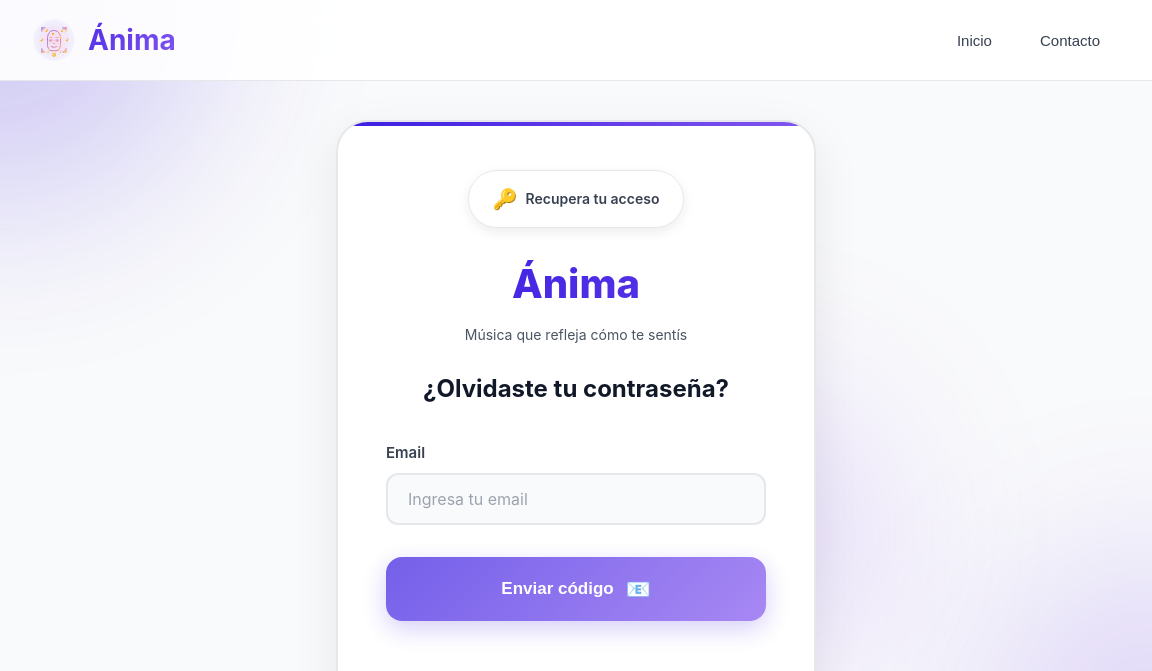
Test: ForgotPassword › shows error when service returns failure
Step 1. Type "a@b.com" into the field with placeholder "Ingresa tu email" → [576, 499], box [386,473,766,525]
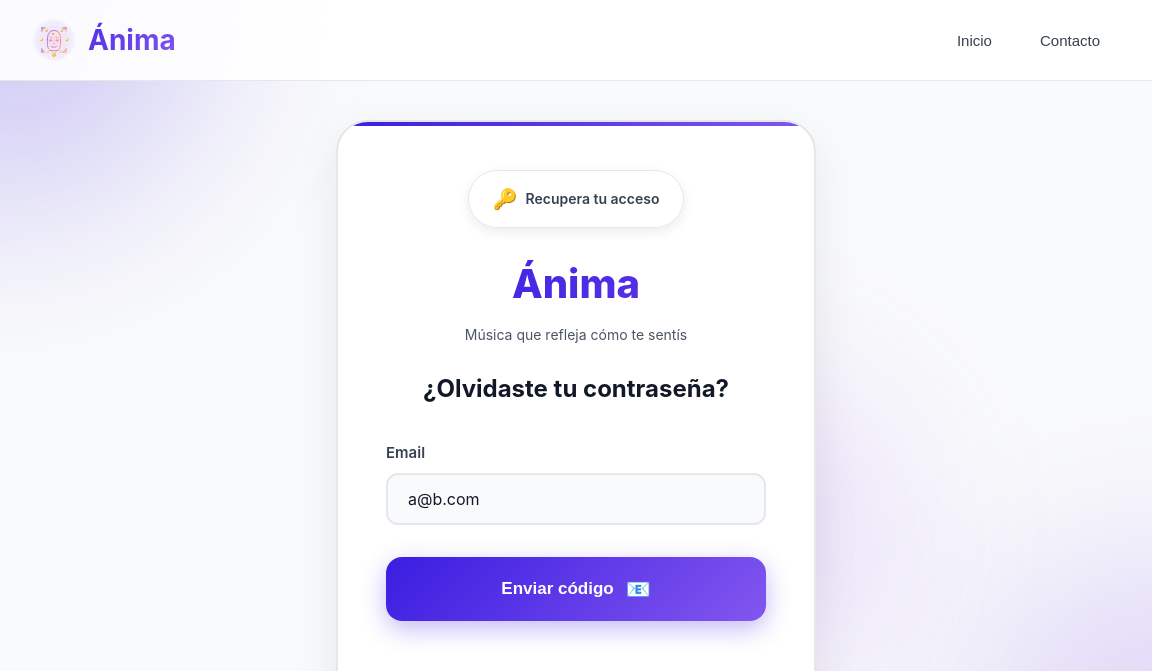
Step 2. Click the button "Enviar código 📧" → [576, 589], box [386,557,766,621]
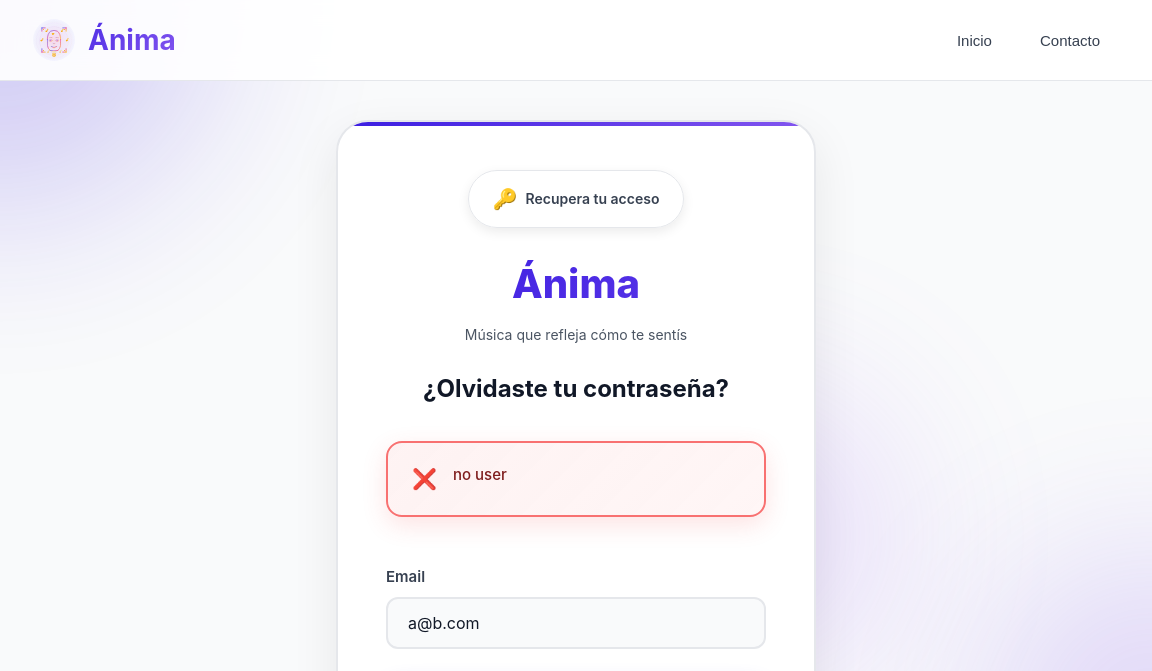
expect the text "no user" is shown: met, box [453,463,507,487]
